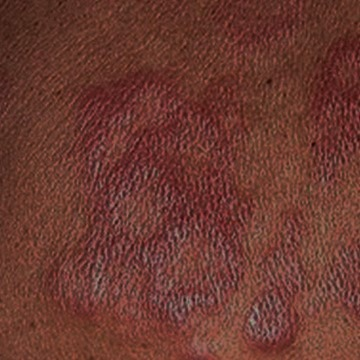Leprosy: (41, 67, 256, 319), (249, 206, 359, 359), (275, 26, 359, 194)
